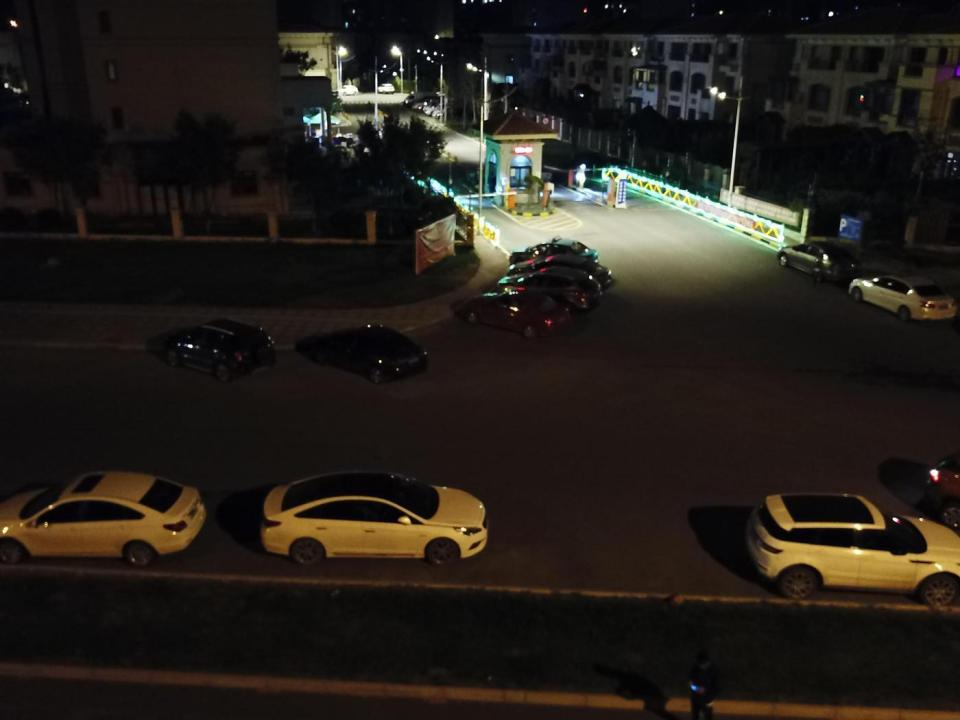car: (744, 491, 960, 607), (259, 469, 490, 566), (0, 470, 209, 567), (164, 317, 276, 382), (312, 325, 428, 384), (849, 274, 956, 323), (465, 290, 572, 338), (496, 266, 603, 312), (506, 254, 612, 289), (777, 241, 861, 280), (509, 235, 600, 268), (422, 100, 456, 115), (433, 104, 463, 119), (412, 95, 444, 109), (334, 84, 359, 96), (377, 83, 394, 94)
